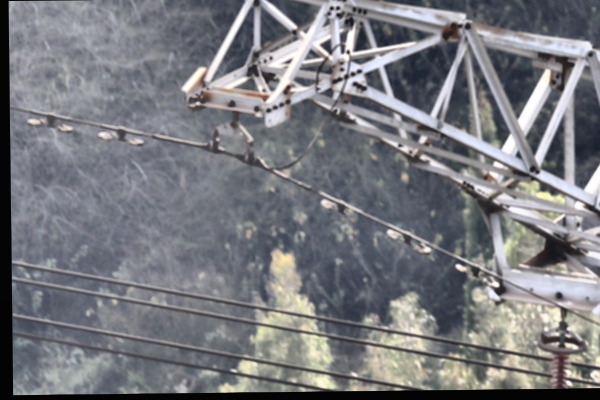damper: (382, 225, 434, 257), (453, 259, 502, 289), (94, 123, 146, 147), (24, 110, 75, 134)
damper_defect: (317, 198, 352, 218)
